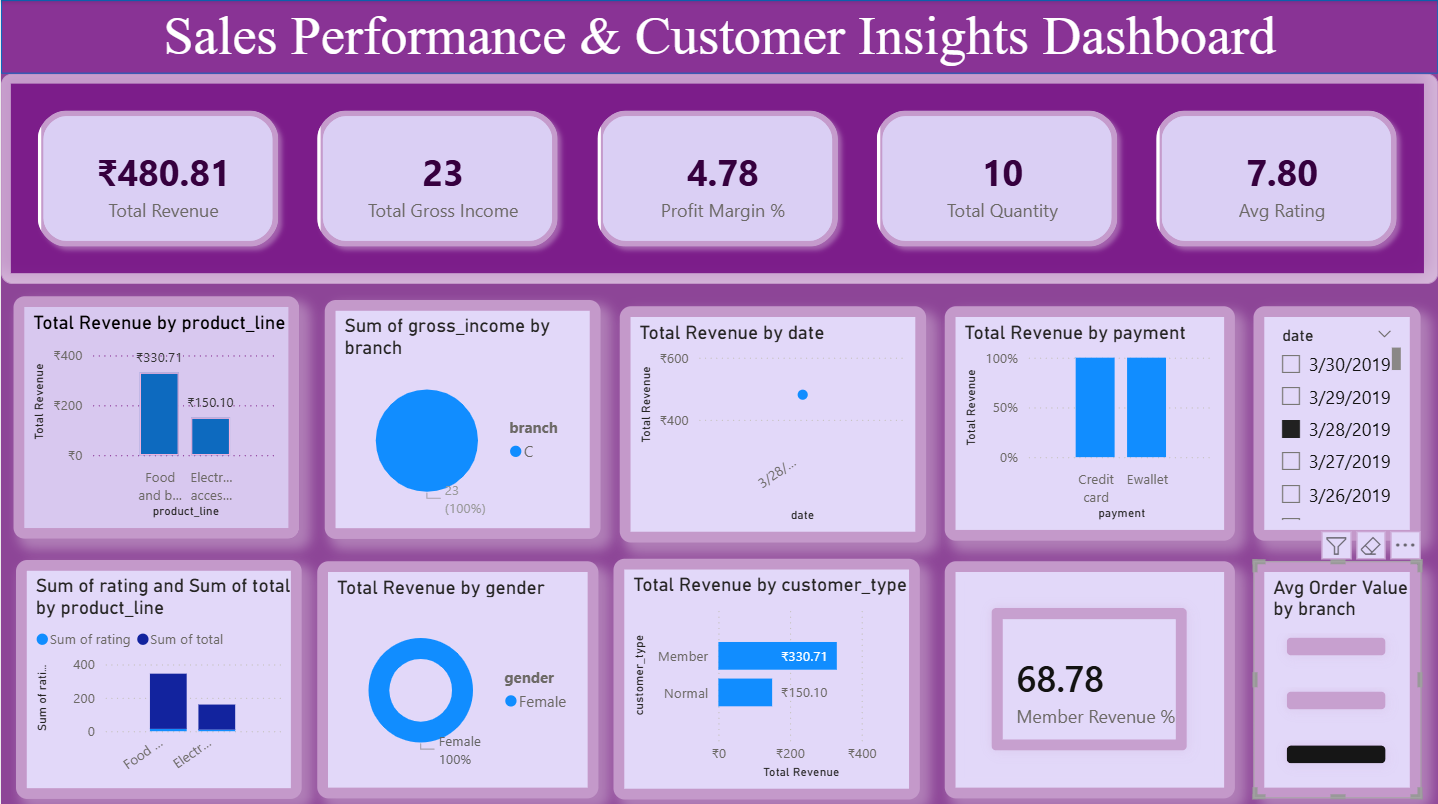

The page's visual inventory and layout, read from the dashboard file:
{"tool":"powerbi","page":{"name":"Page 1","canvas":[1280,720],"ordinal":0},"visuals":[{"type":"cardVisual","fields":{"Data":["public sales_data.Total Revenue","public sales_data.Total Gross Income","public sales_data.Profit Margin %","public sales_data.Total Quantity","public sales_data.Avg Rating"]},"box":[0,65.7,1280,187.1],"z":0},{"type":"pieChart","fields":{"Category":["public sales_data.branch"],"Y":["Sum(public sales_data.gross_income)"]},"box":[288.6,267.1,245.7,212.9],"z":1000},{"type":"clusteredColumnChart","fields":{"Category":["public sales_data.product_line"],"Y":["public sales_data.Total Revenue"]},"box":[11.4,264.3,254.3,215.7],"z":2000},{"type":"lineChart","fields":{"Category":["public sales_data.date"],"Y":["public sales_data.Total Revenue"]},"box":[551.4,272.9,272.9,210],"z":3000},{"type":"hundredPercentStackedColumnChart","fields":{"Category":["public sales_data.payment"],"Y":["public sales_data.Total Revenue"]},"box":[840,272.9,258.6,208.6],"z":4000},{"type":"lineStackedColumnComboChart","fields":{"Y":["Sum(public sales_data.rating)","Sum(public sales_data.total)"],"Category":["public sales_data.product_line"]},"box":[12.9,498.6,254.3,212.9],"z":5000},{"type":"donutChart","fields":{"Category":["public sales_data.gender"],"Y":["public sales_data.Total Revenue"]},"box":[281.4,500,250,211.4],"z":6000},{"type":"clusteredBarChart","fields":{"Category":["public sales_data.customer_type"],"Y":["public sales_data.Total Revenue"]},"box":[545.7,497.1,272.9,214.3],"z":7000},{"type":"cardVisual","fields":{"Data":["public sales_data.Member Revenue %"]},"box":[840,500,258.6,211.4],"z":8000},{"type":"slicer","fields":{"Values":["public sales_data.date"]},"box":[1115.7,272.9,148.6,208.6],"z":9000},{"type":"shape","box":[0,0,1280,65.7],"z":10000},{"type":"textbox","box":[0,0,1280,65.7],"z":11000},{"type":"cardVisual","fields":{"Data":["public sales_data.Avg Order Value"]},"box":[1115.7,500,148.6,211.4],"z":12000}]}

Visuals, with their boxes in screenshot pixels (x1, y1, x2, y2), scaled from the page's 1280x720 canvas onto the 1438x804 screenshot:
cardVisual - public sales_data.Total Revenue x public sales_data.Total Gross Income: 0:73:1437:282
pieChart - public sales_data.branch x Sum(public sales_data.gross_income): 324:298:600:536
clusteredColumnChart - public sales_data.product_line x public sales_data.Total Revenue: 13:295:298:536
lineChart - public sales_data.date x public sales_data.Total Revenue: 619:305:926:539
hundredPercentStackedColumnChart - public sales_data.payment x public sales_data.Total Revenue: 944:305:1234:538
lineStackedColumnComboChart - Sum(public sales_data.rating) x Sum(public sales_data.total): 14:557:300:795
donutChart - public sales_data.gender x public sales_data.Total Revenue: 316:558:597:794
clusteredBarChart - public sales_data.customer_type x public sales_data.Total Revenue: 613:555:920:794
cardVisual - public sales_data.Member Revenue %: 944:558:1234:794
slicer - public sales_data.date: 1253:305:1420:538
shape: 0:0:1437:73
textbox: 0:0:1437:73
cardVisual - public sales_data.Avg Order Value: 1253:558:1420:794
